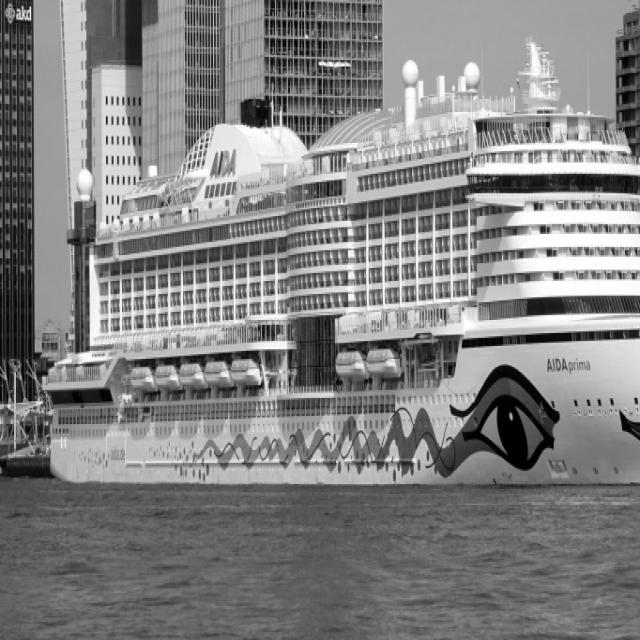cruises: (41, 63, 640, 511)
